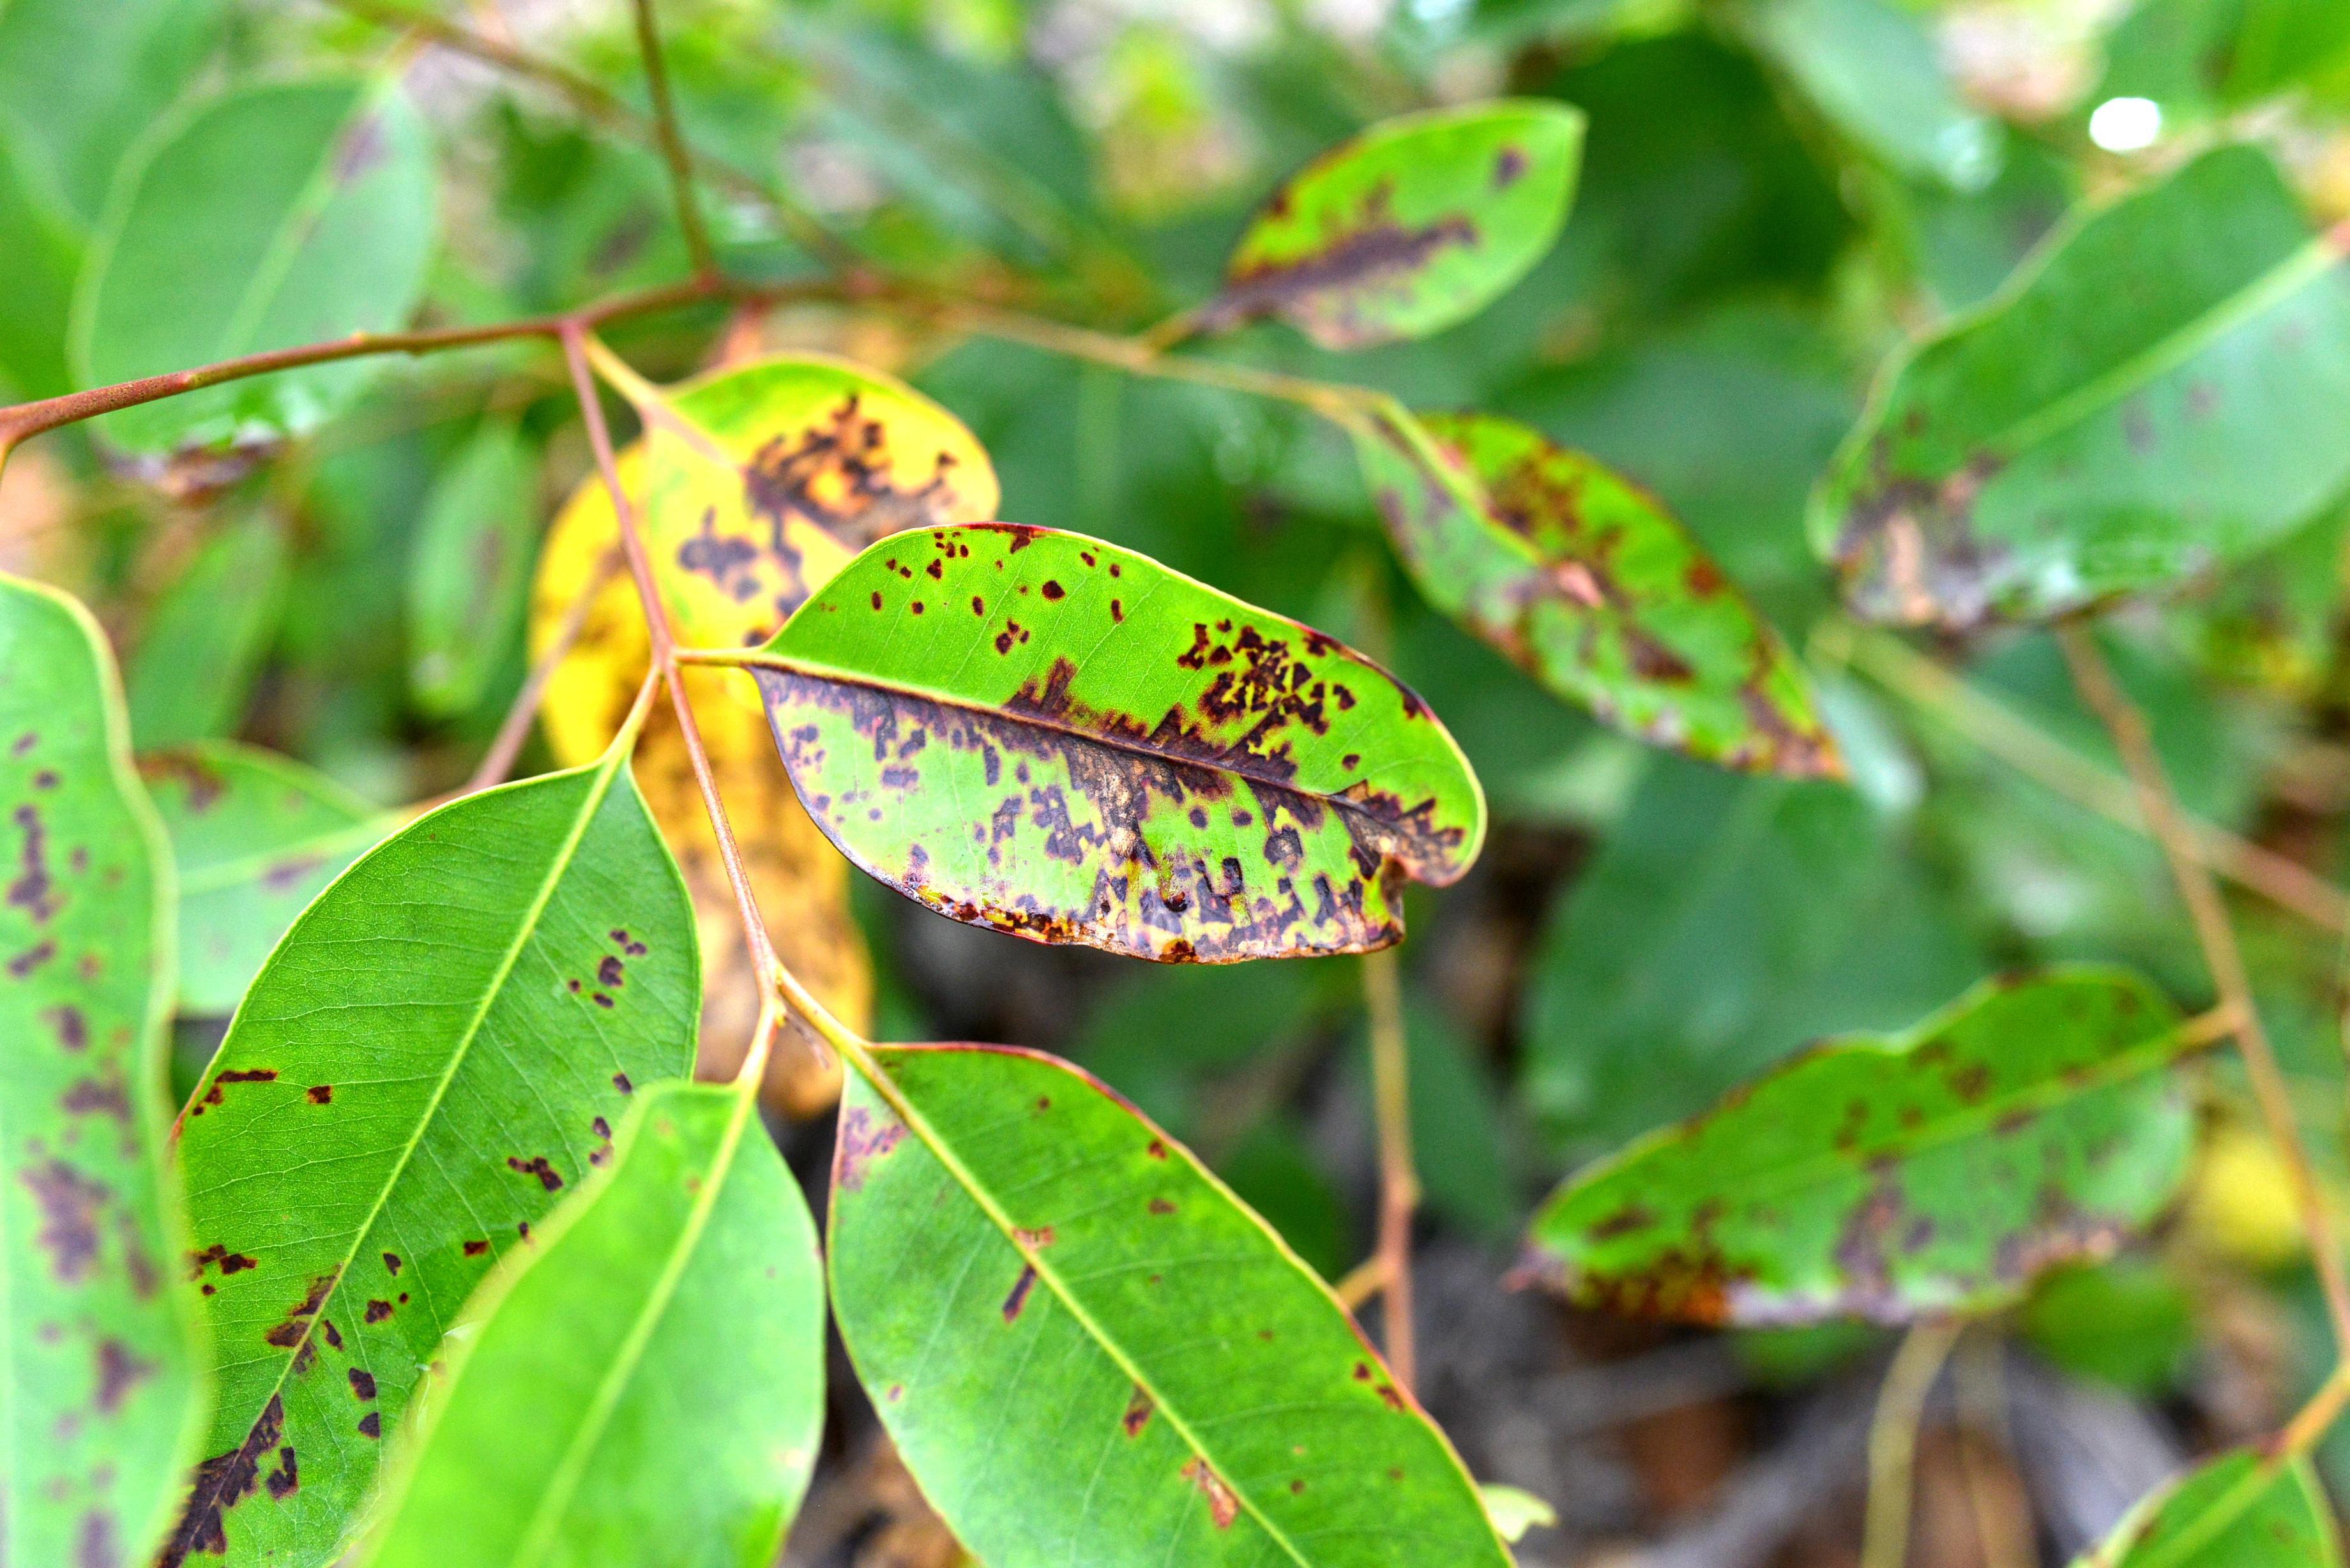Xanthomonas: (646, 348, 1475, 957), (196, 772, 710, 1568), (784, 1025, 1501, 1549), (1517, 980, 2228, 1333), (1820, 241, 2340, 639), (0, 590, 194, 1568), (1181, 84, 1638, 350), (1493, 443, 1825, 766)
